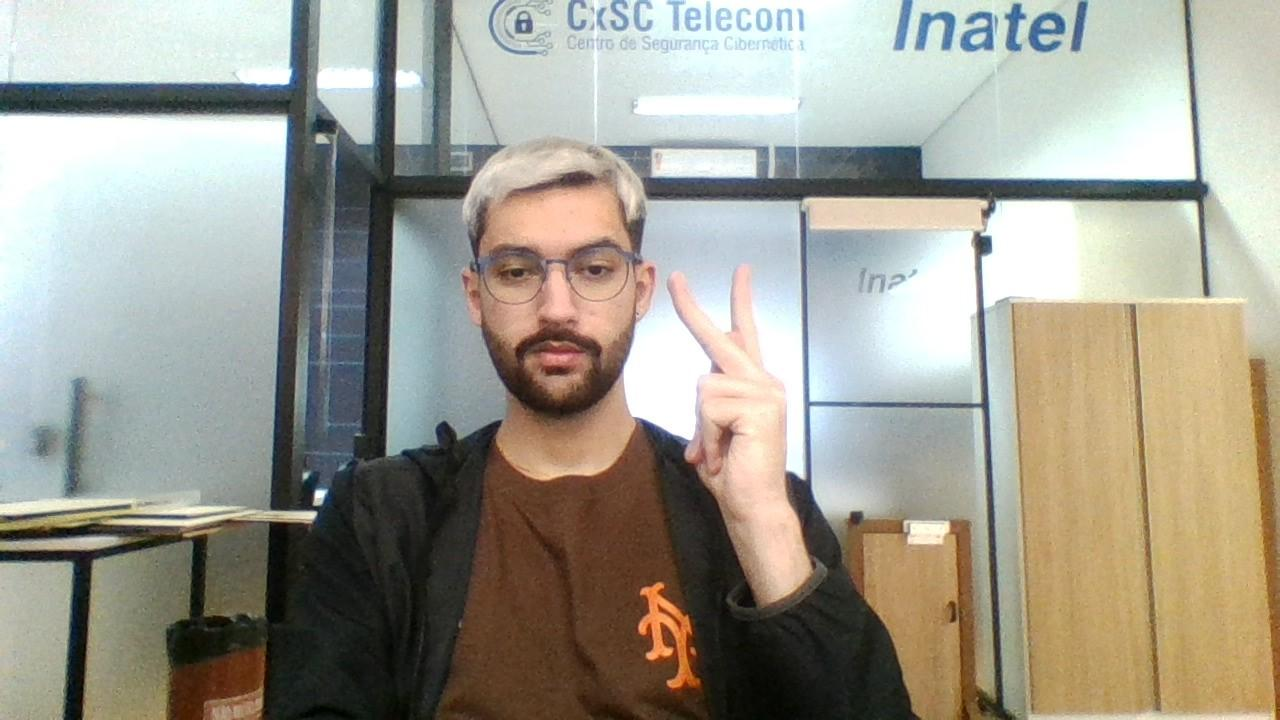K: (662, 260, 800, 510)
